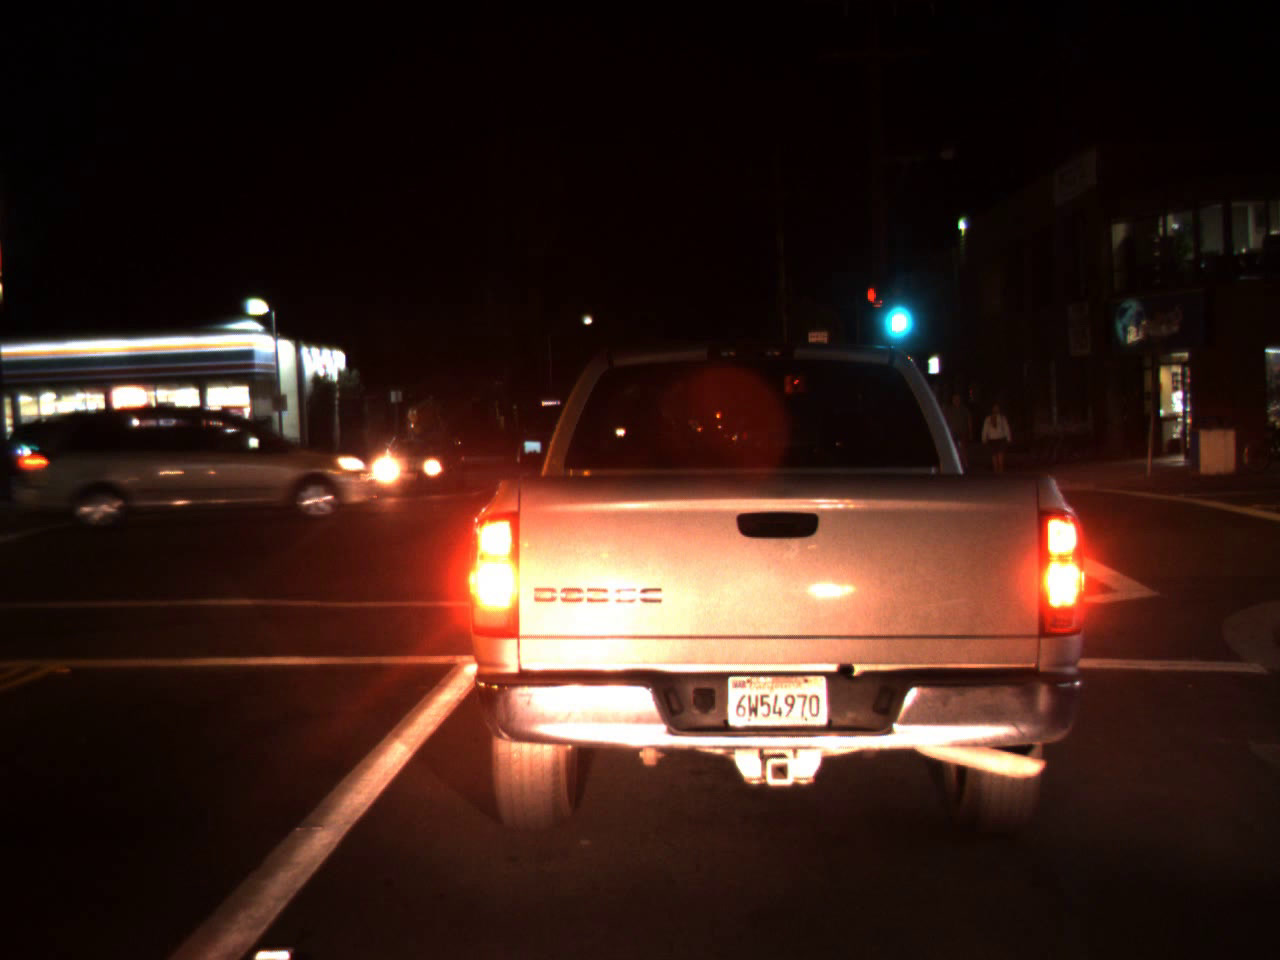go: (874, 277, 911, 349)
